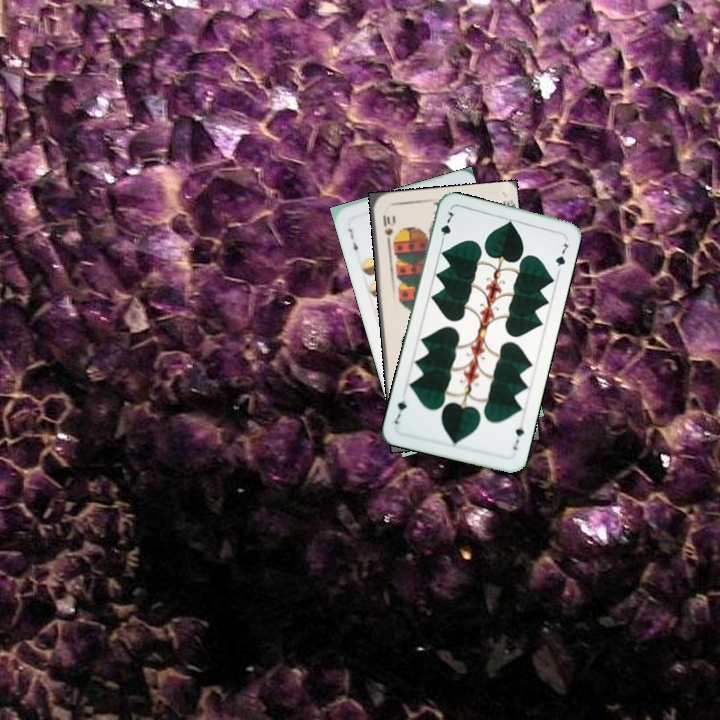E7: (344, 224, 361, 257)
G7: (436, 208, 457, 246), (509, 423, 526, 453)
S10: (379, 211, 395, 247)
